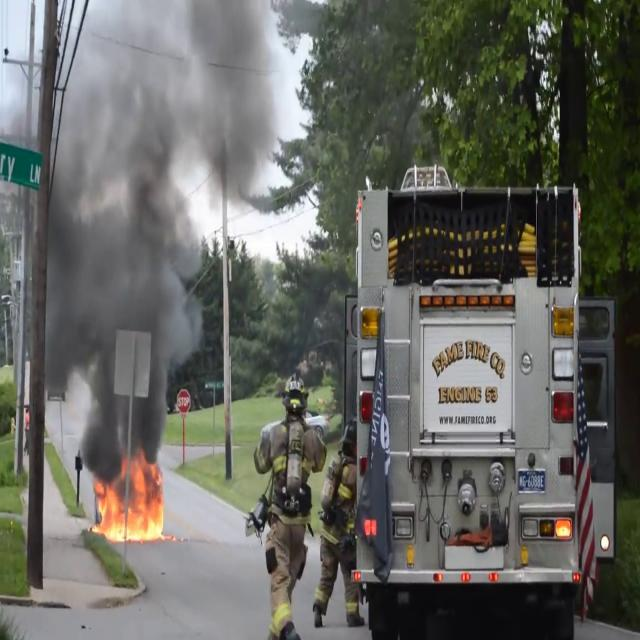Fire: (93, 452, 167, 546)
Smoke: (44, 0, 279, 463)
